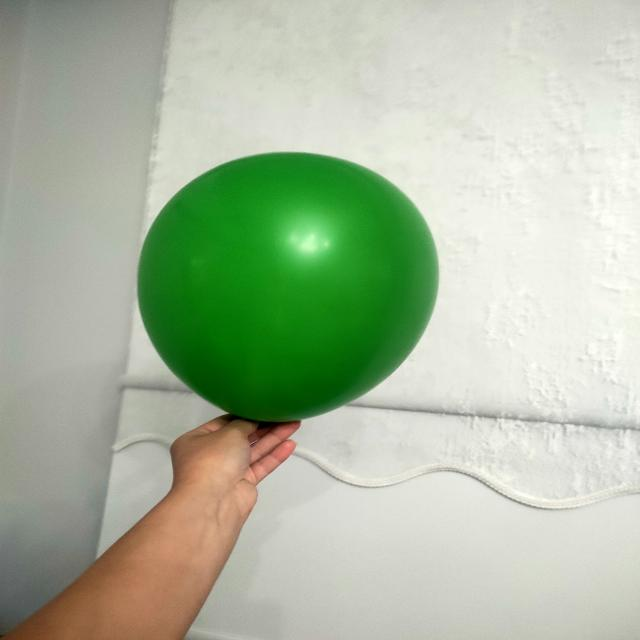green: (143, 153, 442, 425)
